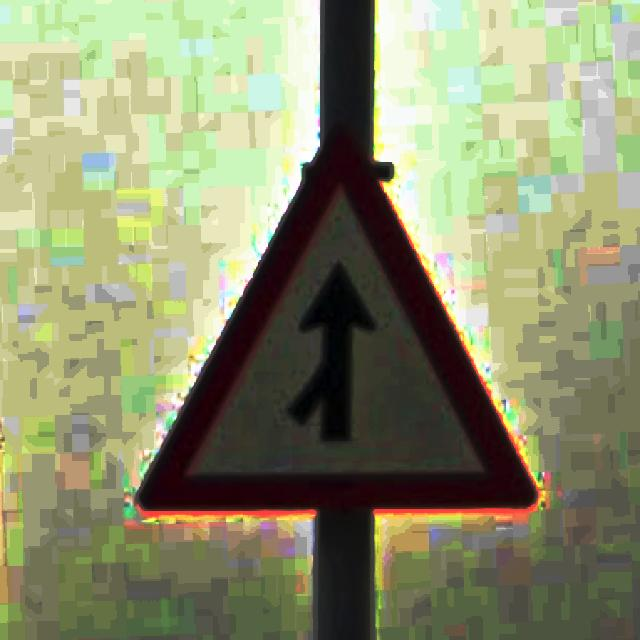leftmerge: (138, 120, 536, 514)
